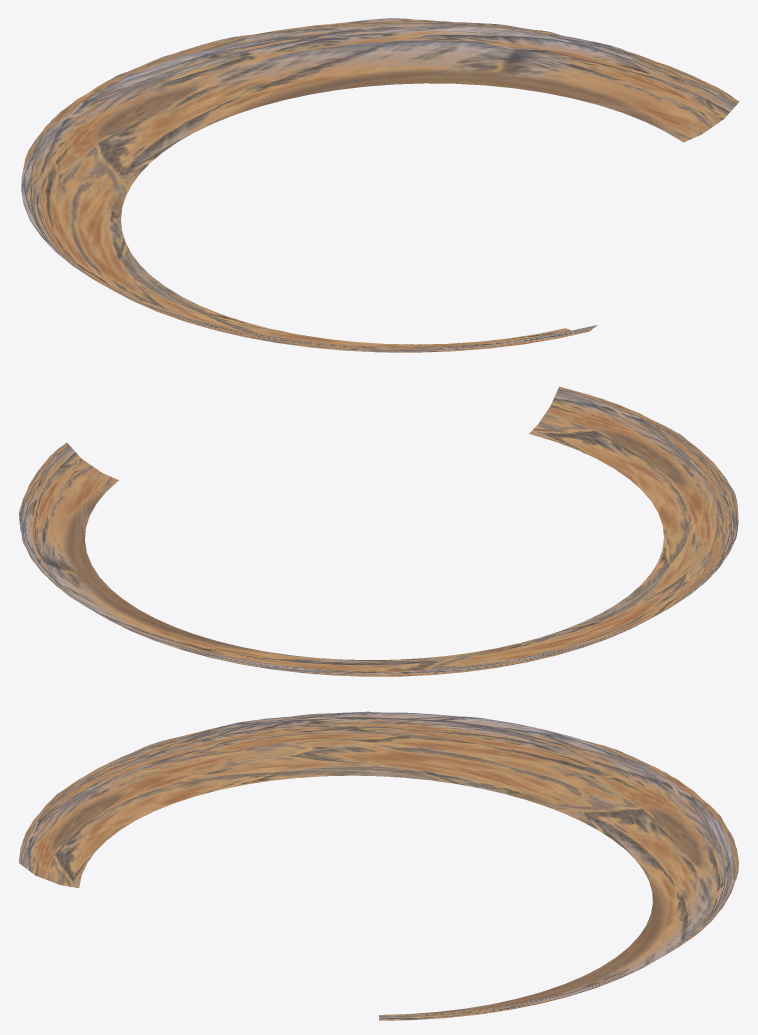
The model's file is Level_01_Far_Backdrop_Strip_A.fbx.
The picture shows the model from 3 angles, top to bottom: view 1: azimuth 30°, elevation 25°; view 2: azimuth 150°, elevation 25°; view 3: azimuth 270°, elevation 25°; orthographic projection. The views are drawn at different scales.
Parts seen in each view (by area): view 1: Geometry_Level_01_Far_Backdrop_Strip_A; view 2: Geometry_Level_01_Far_Backdrop_Strip_A; view 3: Geometry_Level_01_Far_Backdrop_Strip_A.
Part boxes in pixels (left/top/right/bottom): Geometry_Level_01_Far_Backdrop_Strip_A: left=21, top=18, right=739, bottom=352; Geometry_Level_01_Far_Backdrop_Strip_A: left=19, top=386, right=738, bottom=676; Geometry_Level_01_Far_Backdrop_Strip_A: left=18, top=711, right=738, bottom=1020.
Bounding box in the file's own units: 879131 × 44353 × 879132.
